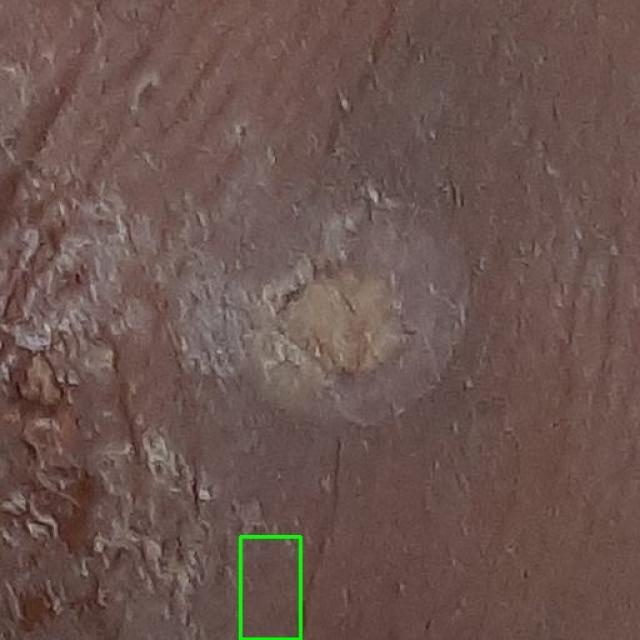Eczema: (240, 536, 300, 639)
